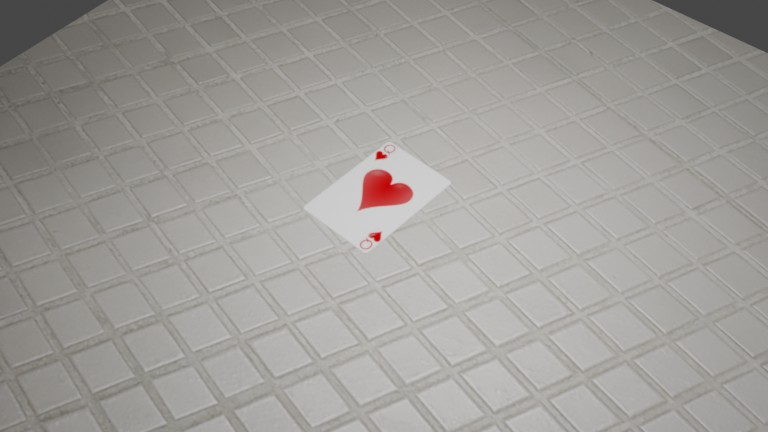queen_of_hearts: (142, 91, 155, 101), (148, 57, 160, 66)
